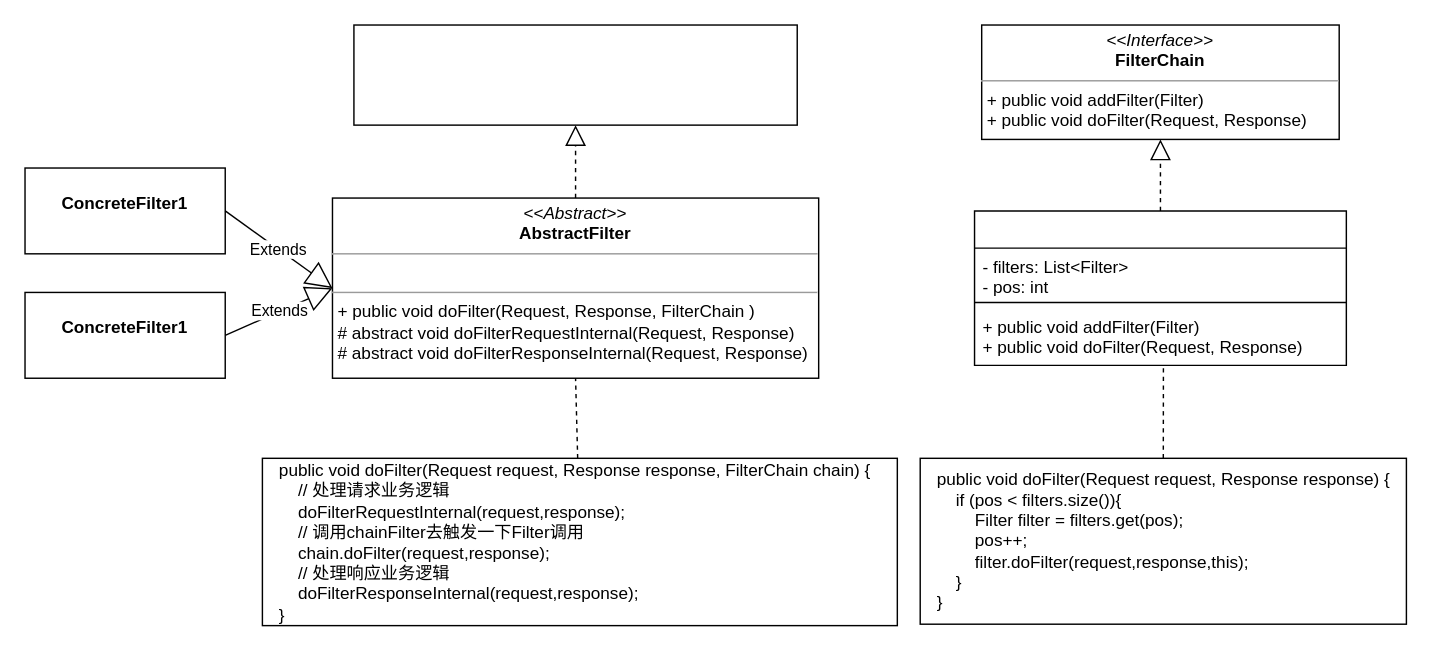
Image size: 1431x651. Some labels were removed from this diagram. Each missing label, with the box of its shape:
<<Interface>> Filter + public void doFilter(Request, Response, FilterChain ): (352, 24, 797, 125)
DefaultFilterChain: (973, 209, 1346, 365)
